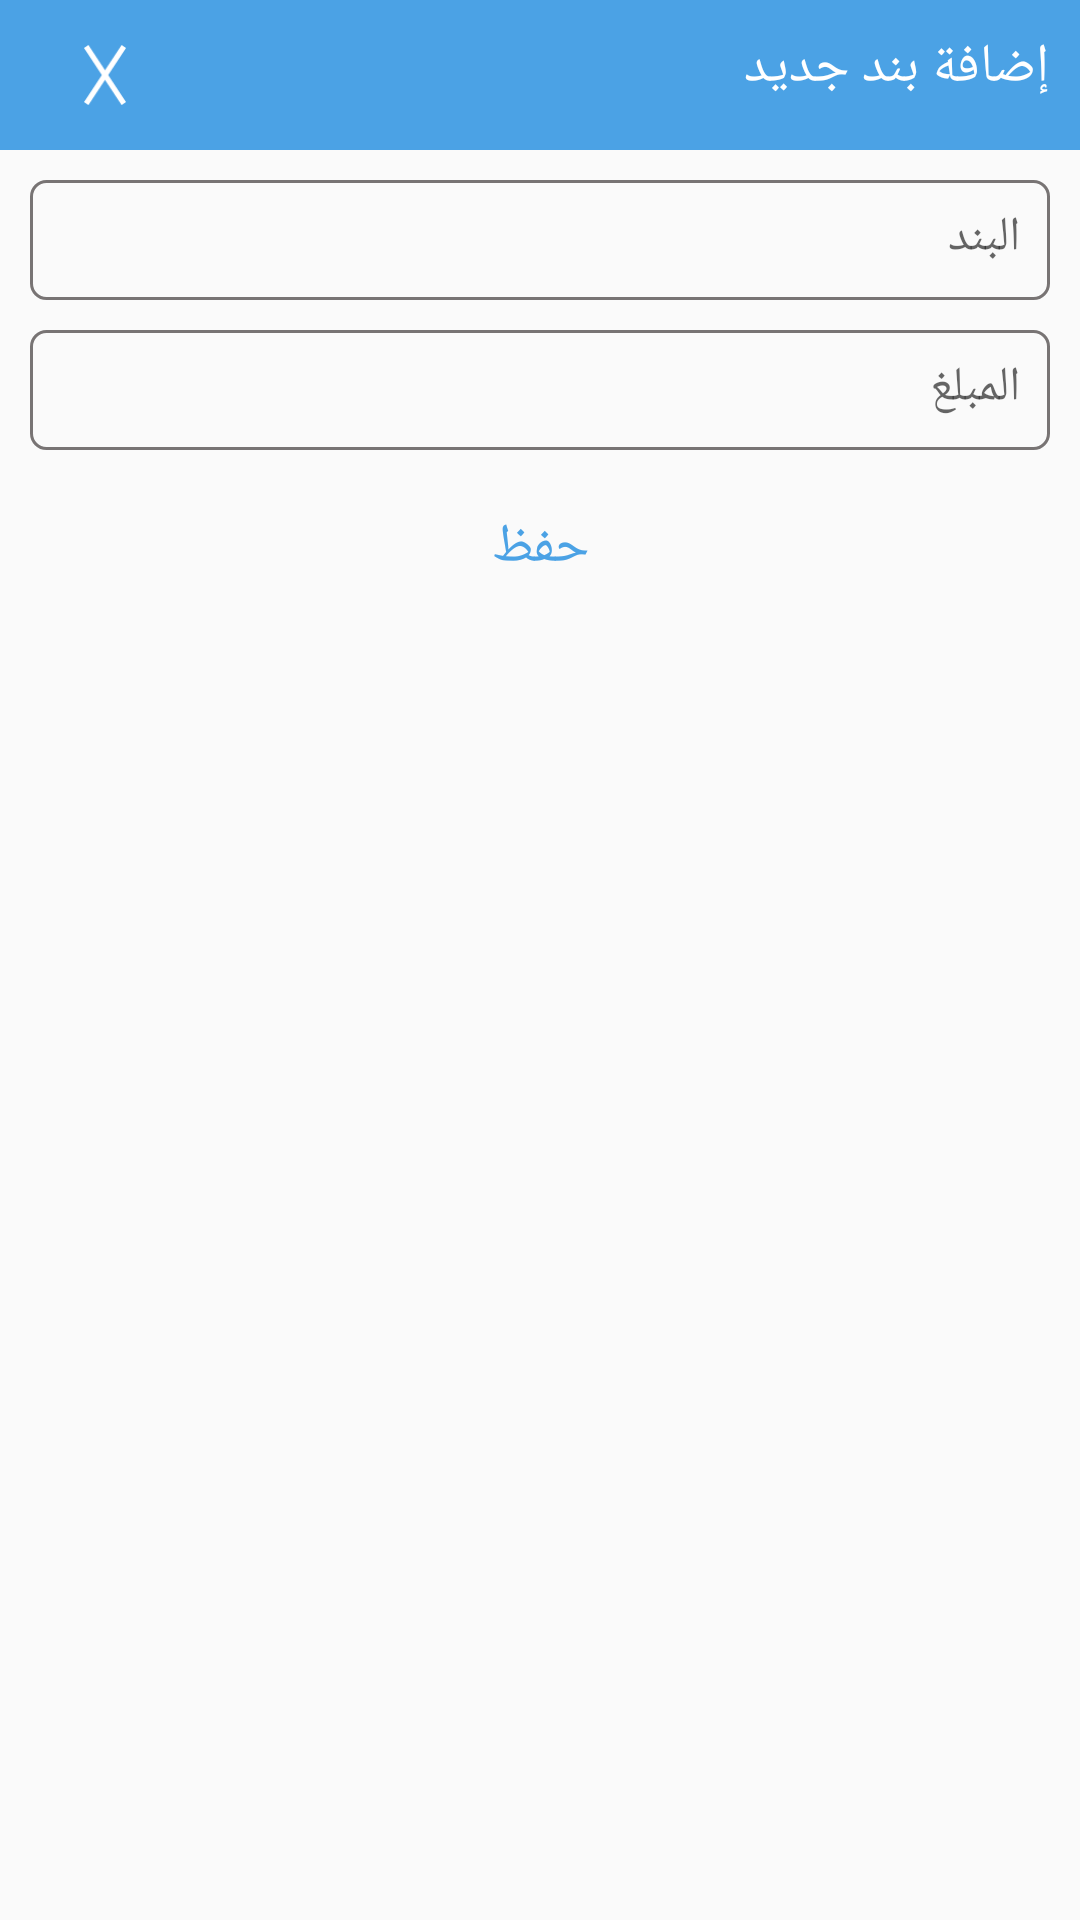

Icon click points for this 1080 × 1920 phone screenshot, format (x,y):
close: (105,75)
